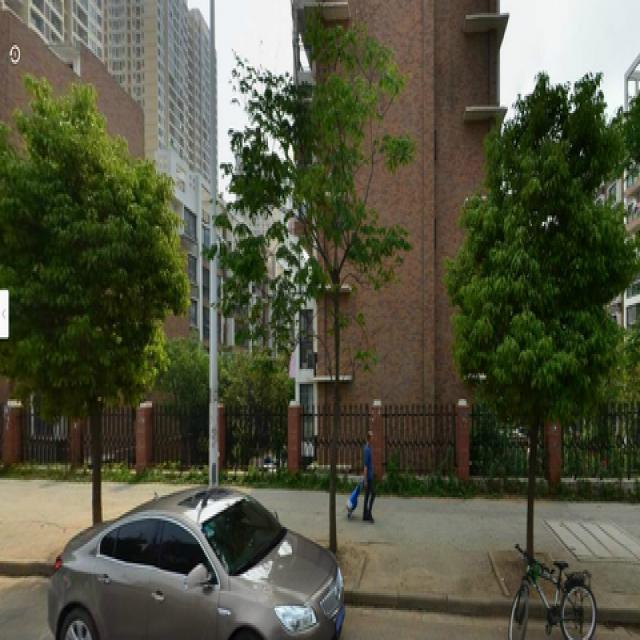koel: (218, 23, 414, 572)
